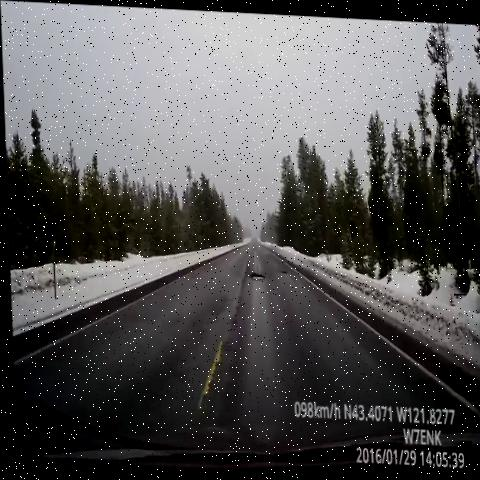pothole: (243, 262, 269, 287), (271, 265, 290, 278)
